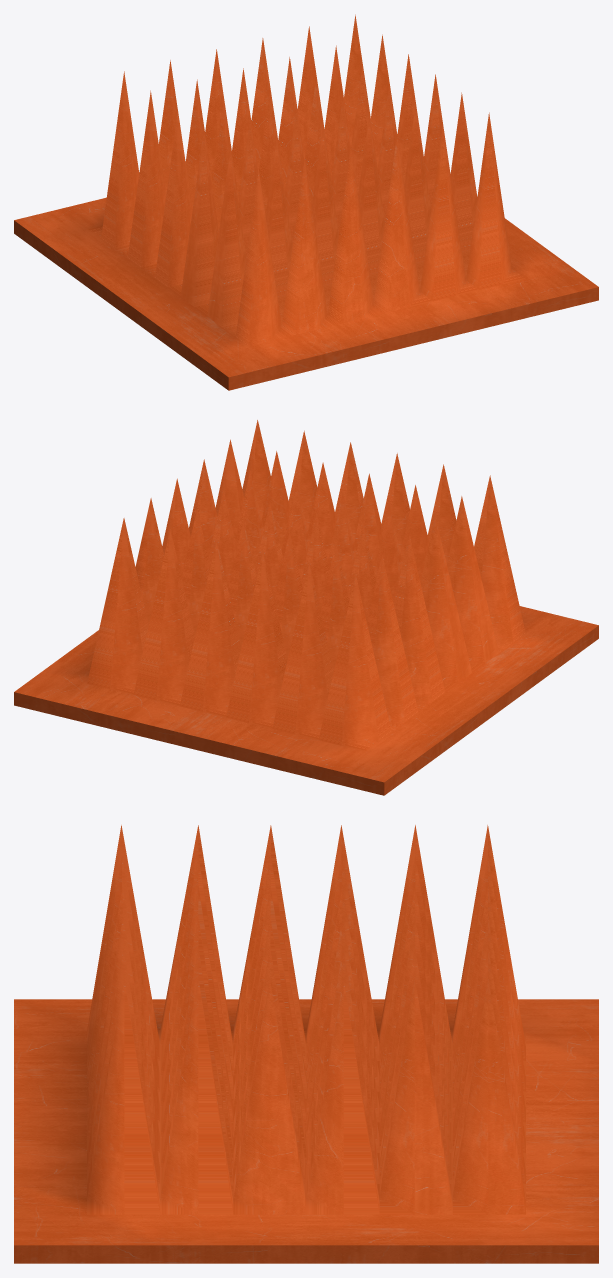
File: Spikes.fbx
3 renders of one model, top to bottom at view 1: azimuth 30°, elevation 25°; view 2: azimuth 150°, elevation 25°; view 3: azimuth 270°, elevation 25°, orthographic. The views are drawn at different scales.
Parts seen in each view (by area): view 1: Box001; view 2: Box001; view 3: Box001.
Boxes of the visible parts, x1,y1,x2,y2 form: Box001: [14, 14, 598, 390]; Box001: [14, 420, 598, 795]; Box001: [14, 825, 598, 1263].
Bounding box in the file's own units: 79.63 × 36.11 × 79.98.
1 material, 1 textured.
